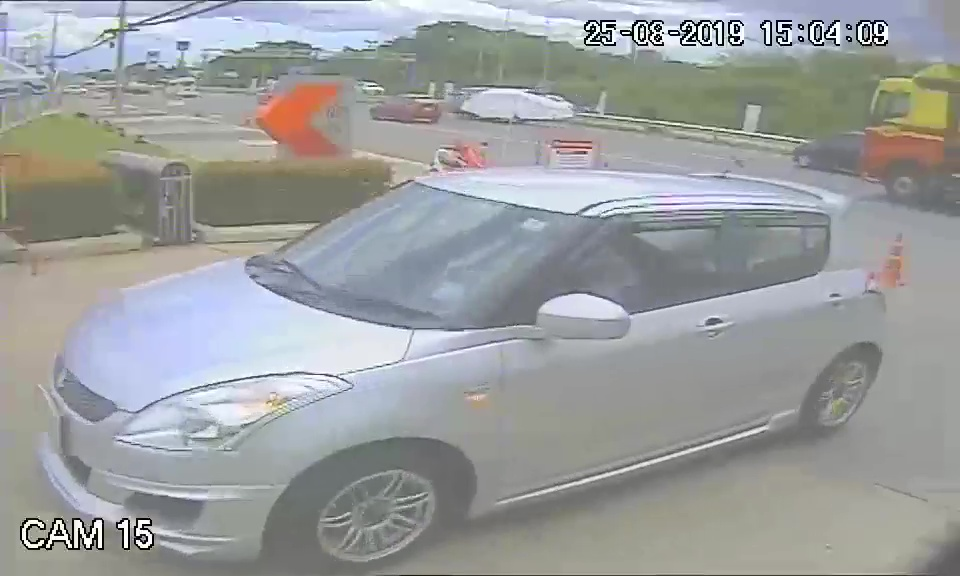sedan: (37, 165, 894, 568)
